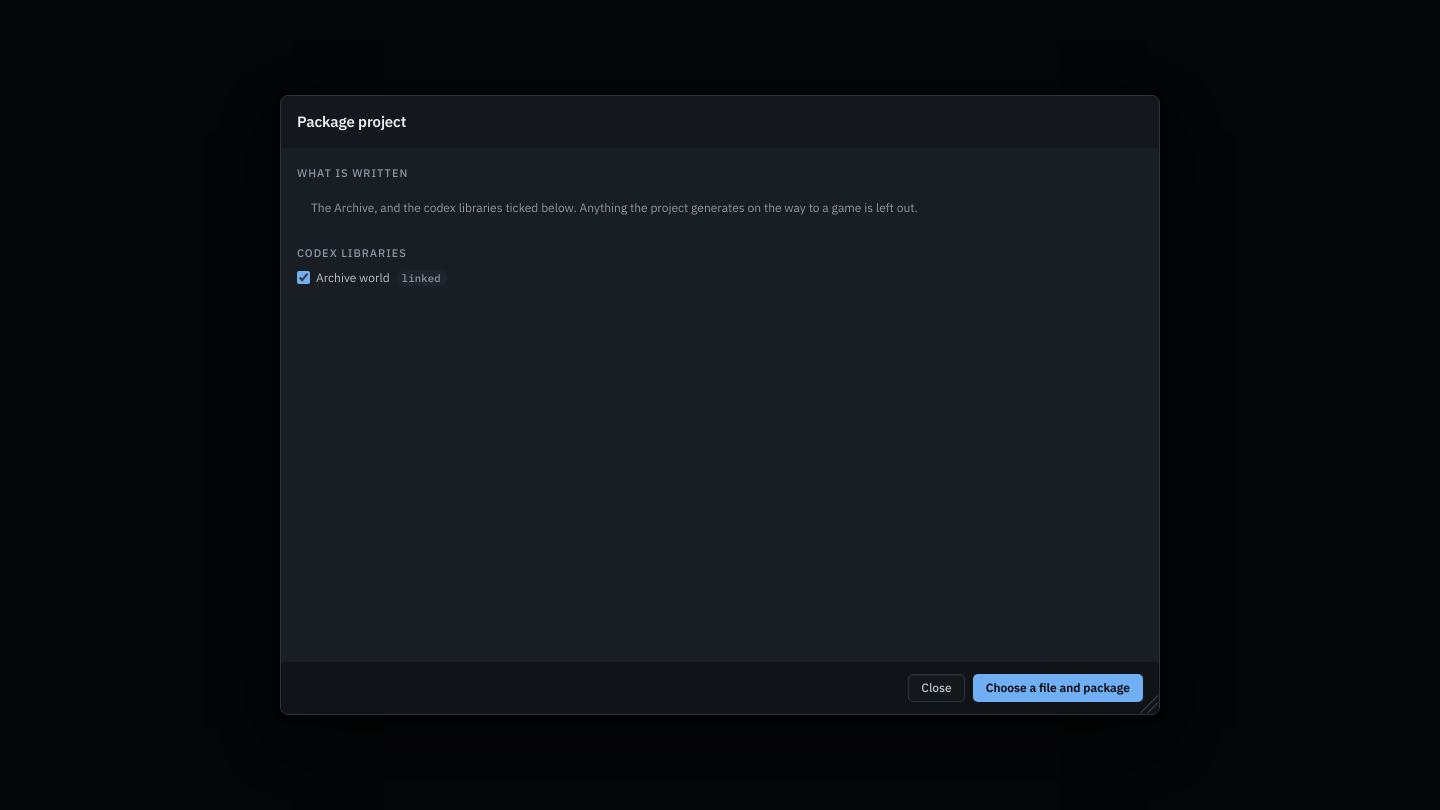
PackageDialog › reports a package that could not be written
The width and height of the screenshot is (1440, 810).
Click the button "Choose a file and package": click(1058, 688) [973,674,1143,702]
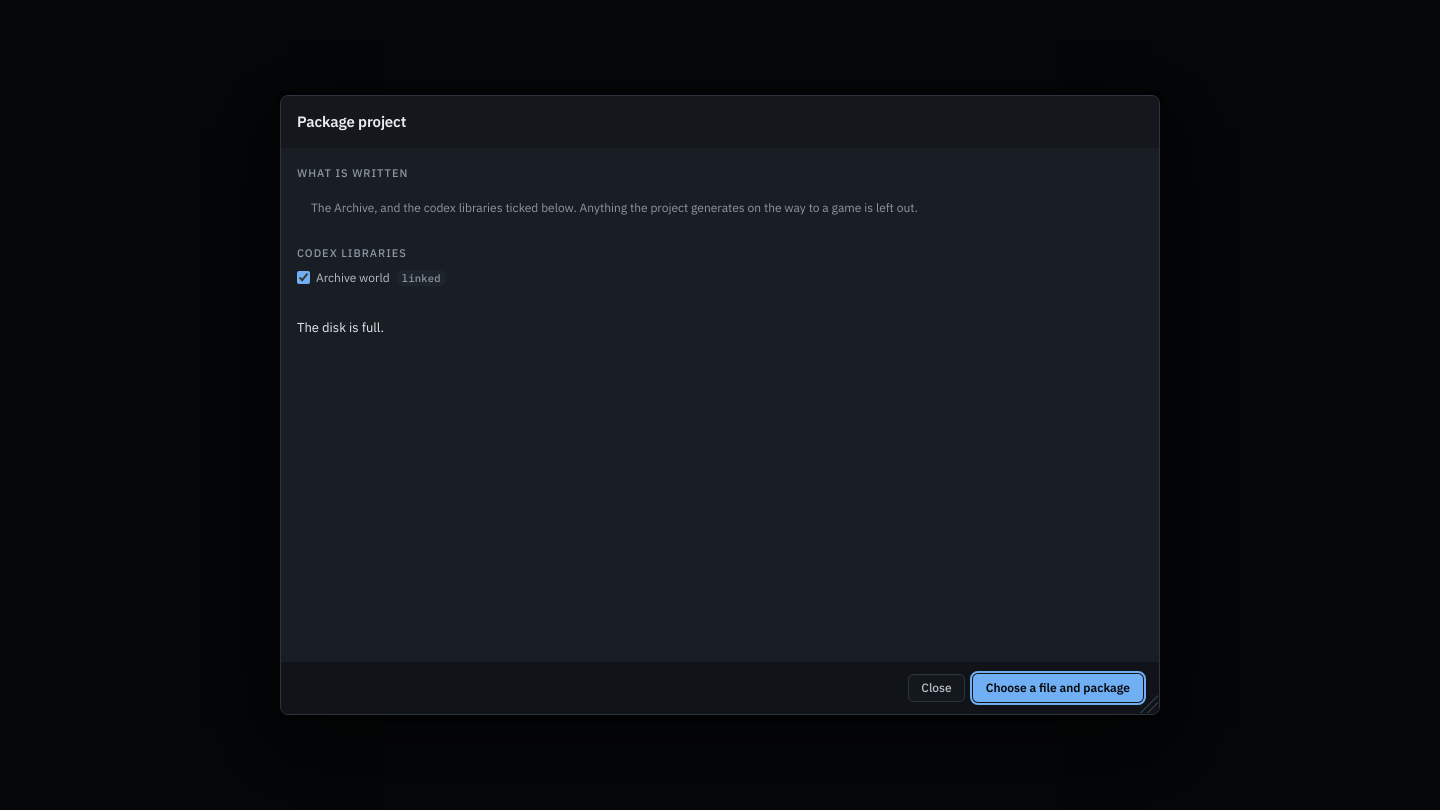
Expected: the text "The disk is full." is shown, [297,319,384,336]
